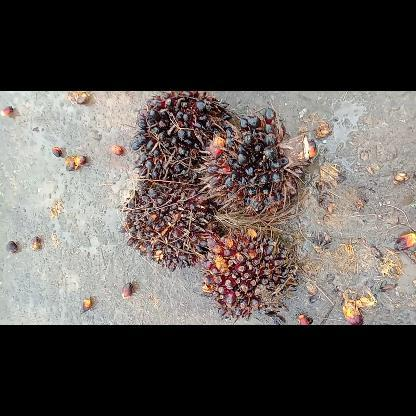TBS abnormal: (202, 106, 314, 224), (126, 91, 238, 185)
TBS masak: (116, 175, 226, 271), (198, 221, 304, 320)
